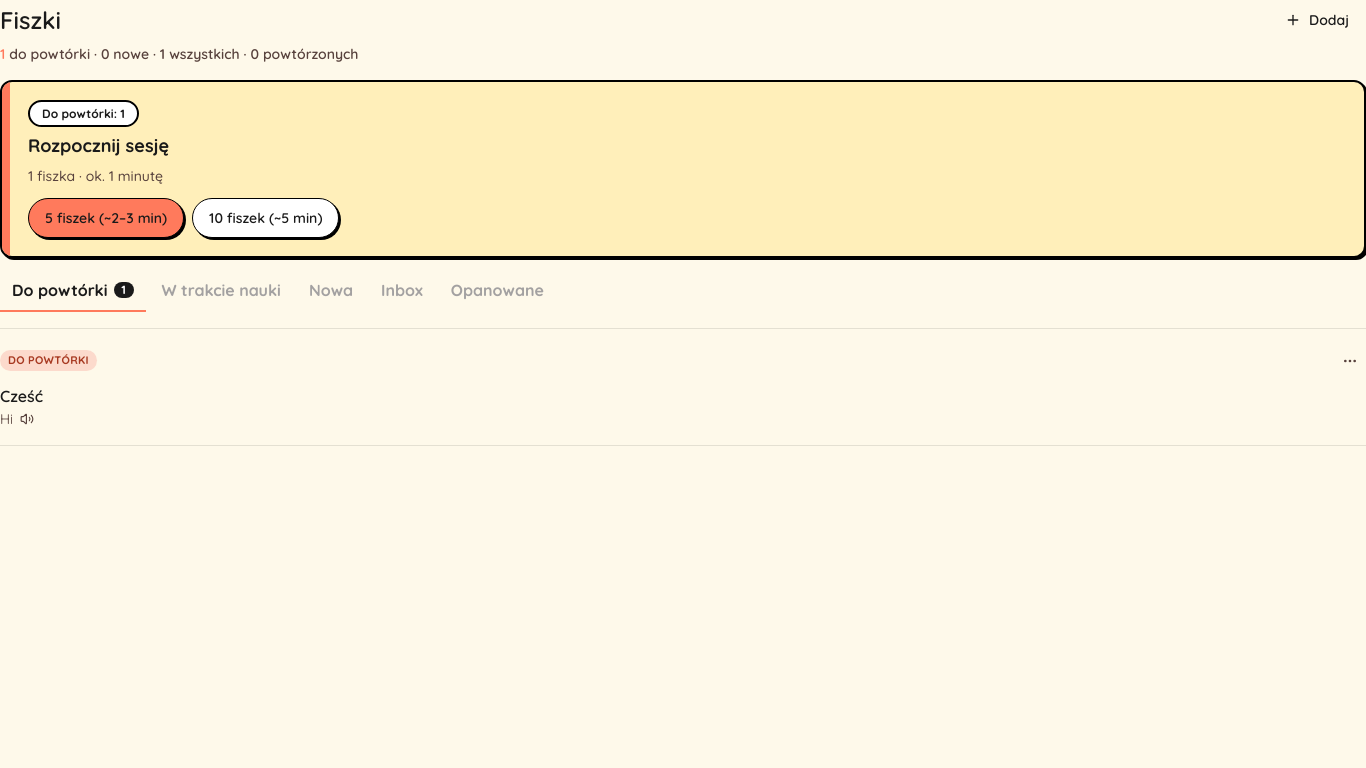
FlashcardsView › opens edit dialog from context menu
The width and height of the screenshot is (1366, 768).
Click the button named "Opcje karty".
click(1350, 360)  # box [1334,344,1365,376]
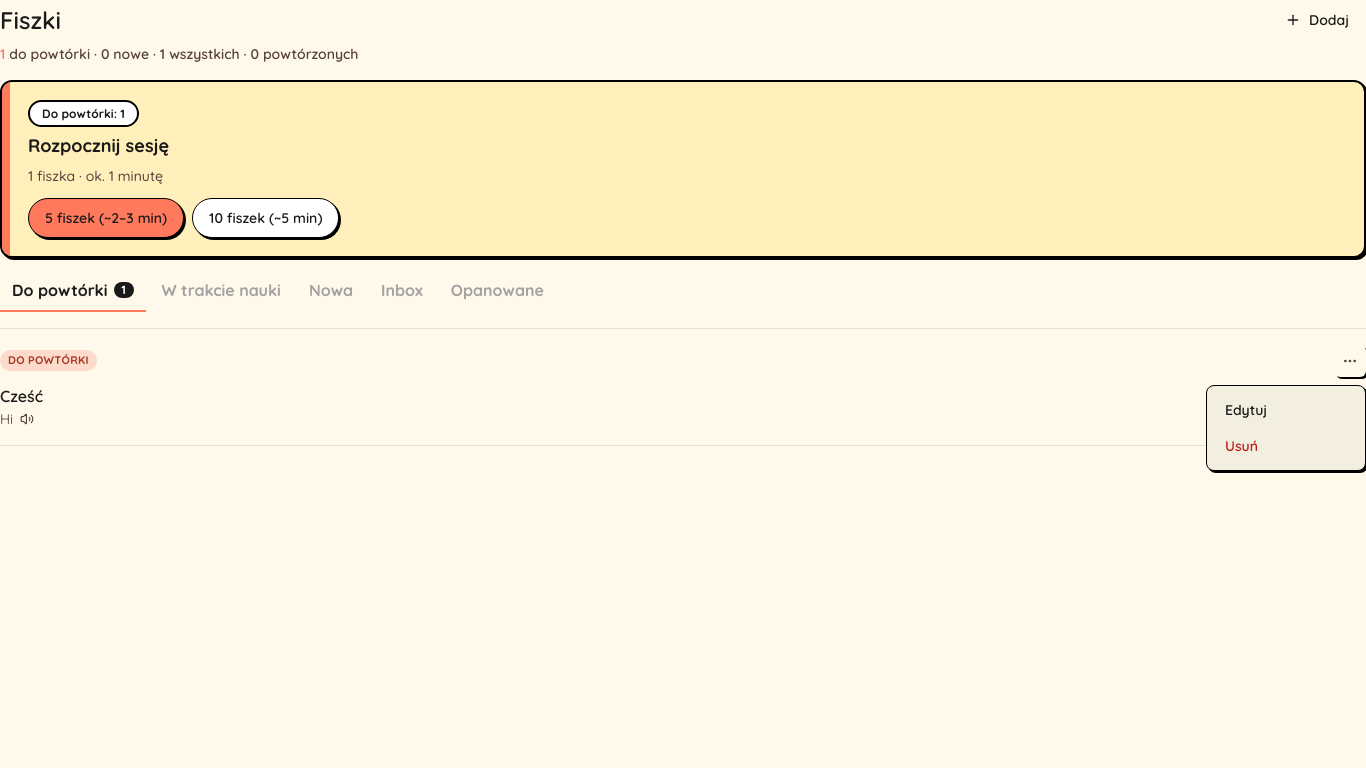
Click the menu item "Edytuj".
click(1246, 410)  # box [1225,401,1267,419]
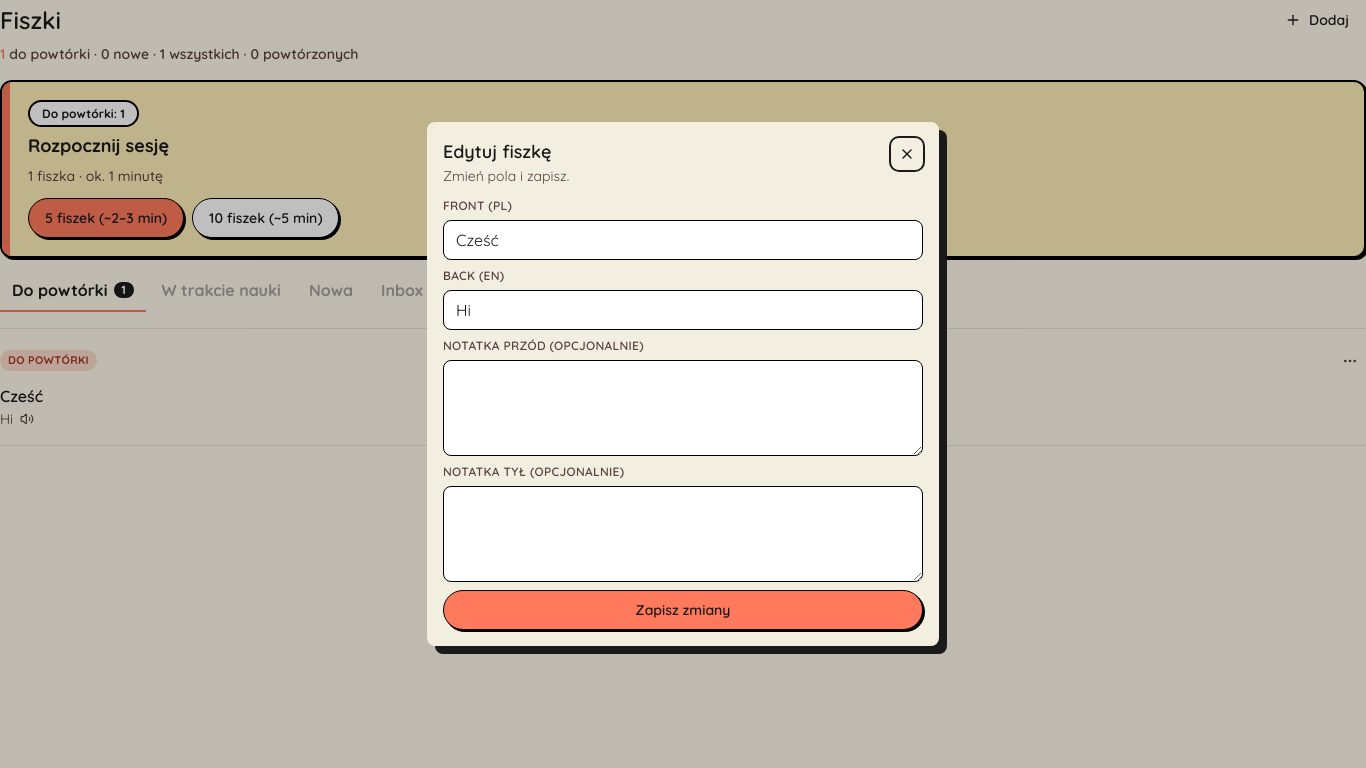
Result: the heading "Edytuj fiszkę" is shown at [443,138,569,166]
